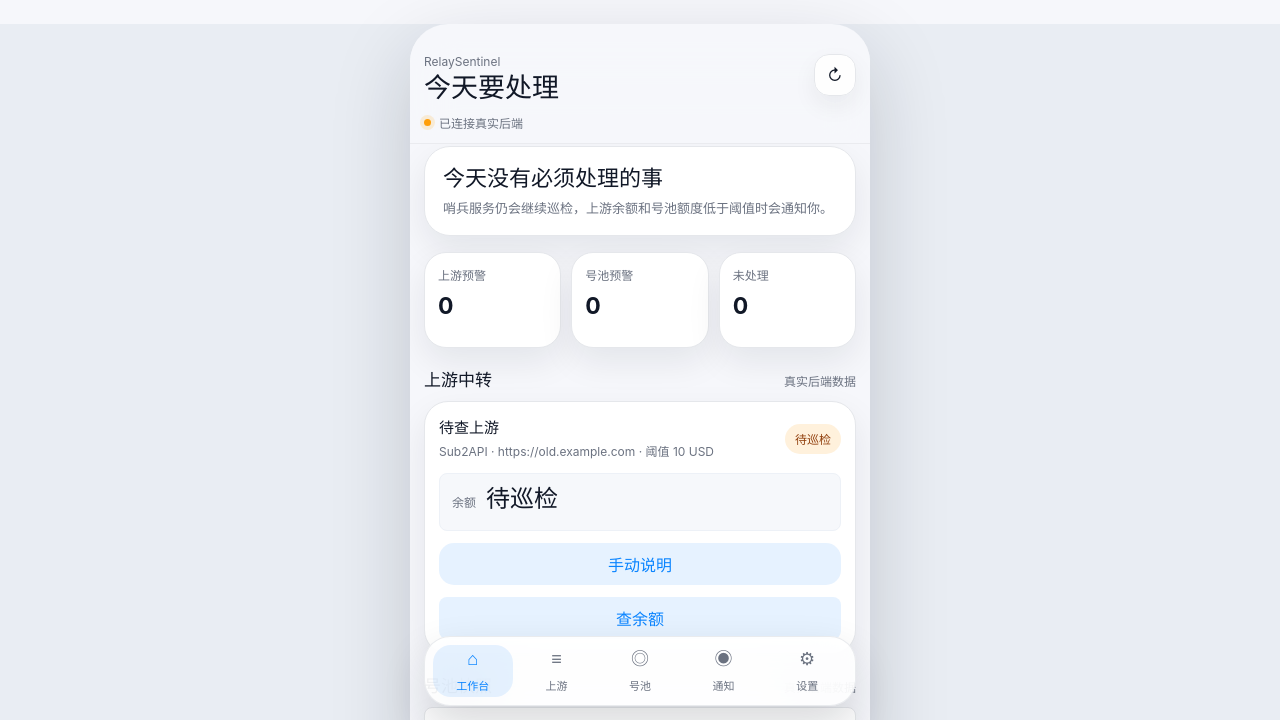
App workbench › can manually run a backend upstream balance check
Click the button "≡ 上游". click: (556, 671)
box: x1=517 y1=645 x2=596 y2=697
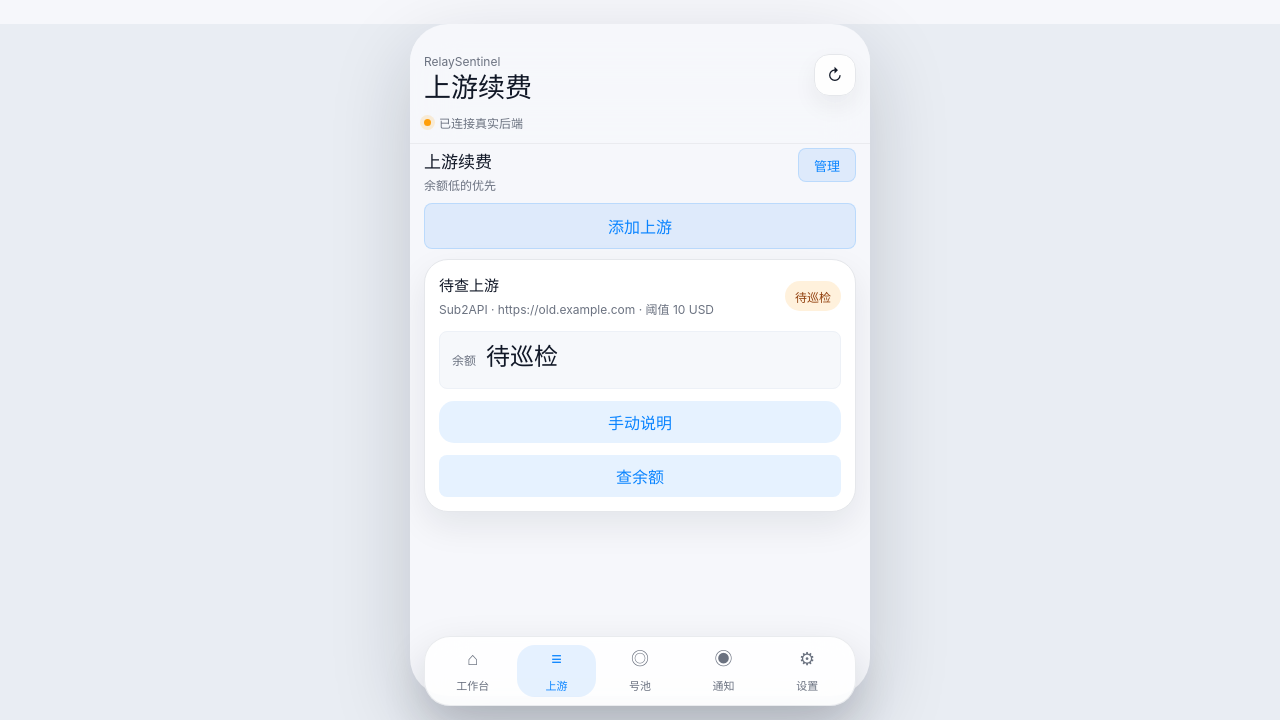
Click the button "查余额". click: (640, 476)
box: x1=439 y1=454 x2=841 y2=496
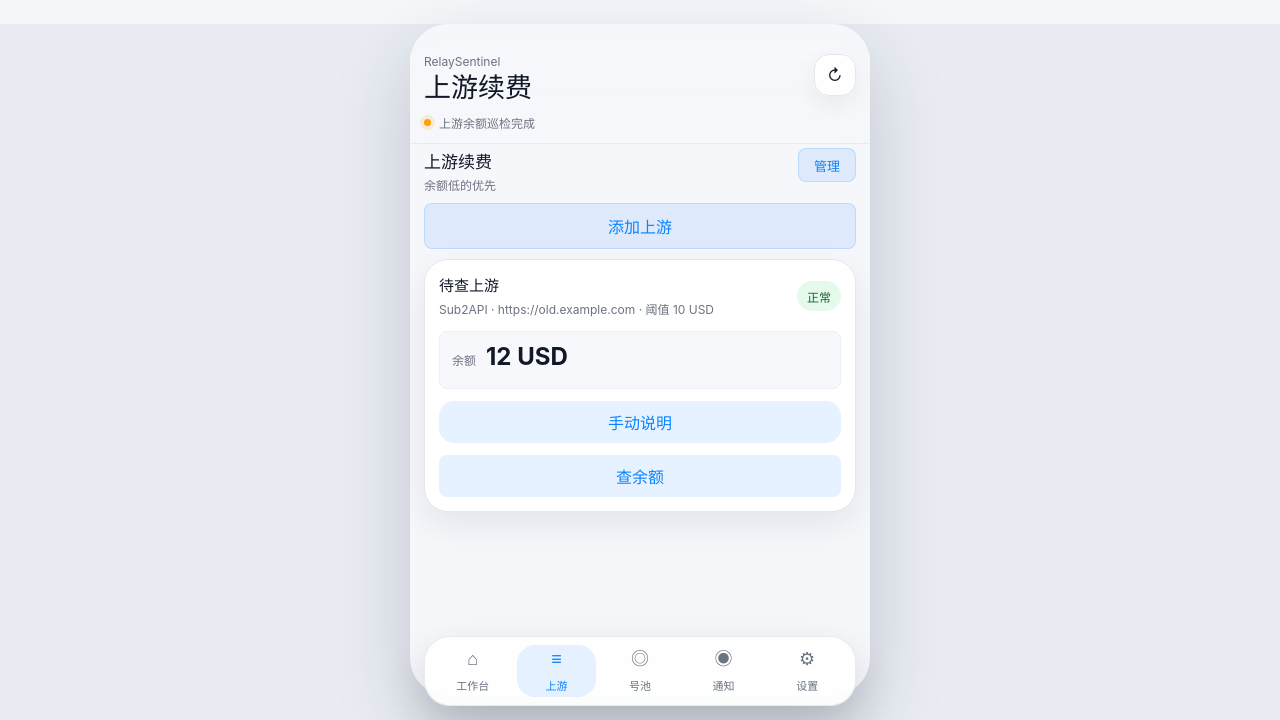
Check: the text "上游余额巡检完成" is shown, box x1=424 y1=116 x2=535 y2=131
Check: the element with class "balance-metric" shows "12 USD", box x1=486 y1=342 x2=568 y2=370
